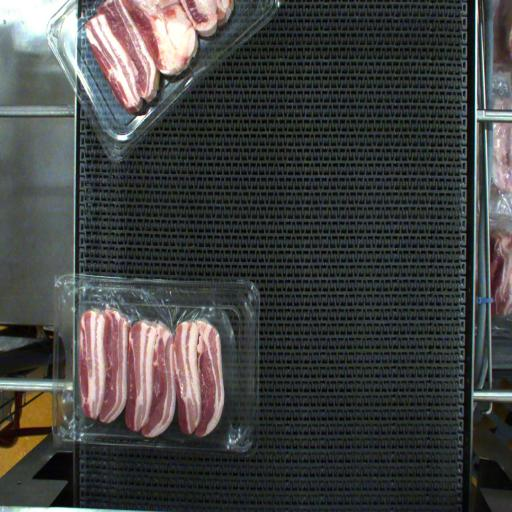unsealed: (60, 290, 248, 432)
